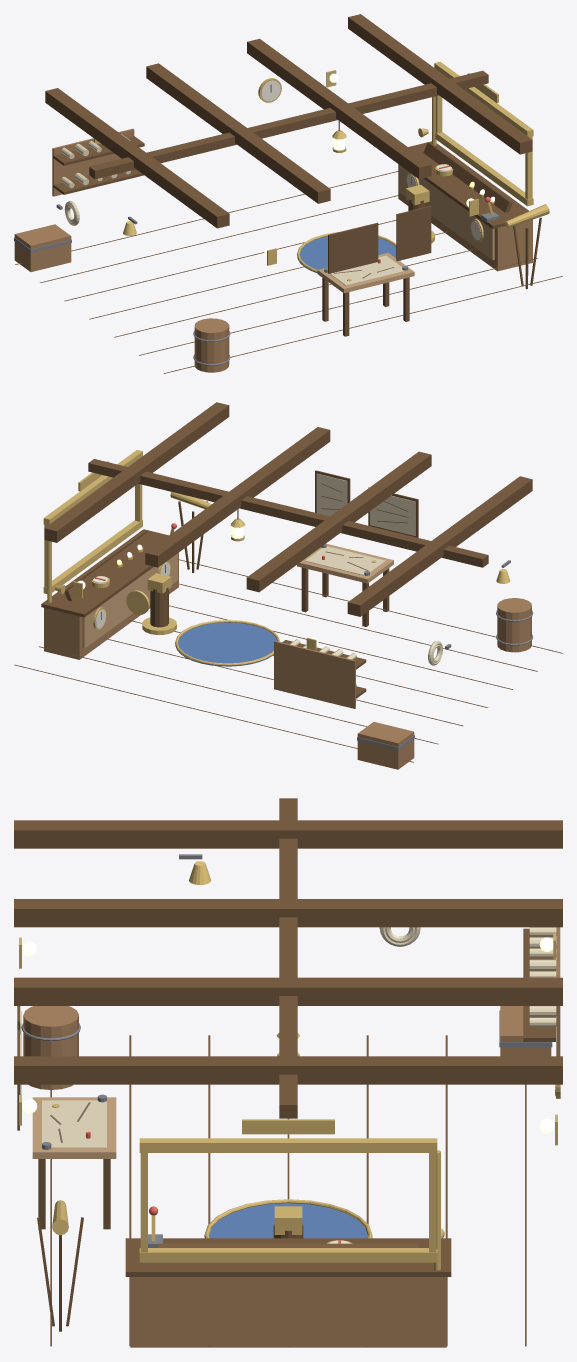
File: helm_room.glb
3 renders of one model, top to bottom at view 1: azimuth 30°, elevation 25°; view 2: azimuth 150°, elevation 25°; view 3: azimuth 270°, elevation 25°, orthographic. The views are drawn at different scales.
Parts seen in each view (by area): view 1: ceiling_beam_long, ceiling_beam_0, ceiling_beam_2, ceiling_beam_3, ceiling_beam_1, dash_top, col_dash_body, dash_panel, wall_chart_0_frame, col_chest, col_barrel, wall_chart_1_frame (+12 smaller); view 2: ceiling_beam_long, ceiling_beam_2, ceiling_beam_1, ceiling_beam_0, ceiling_beam_3, col_shelf_back, rug, dash_top, col_dash_body, col_chest, dash_panel, col_barrel (+13 smaller); view 3: col_dash_body, ceiling_beam_0, ceiling_beam_2, ceiling_beam_3, ceiling_beam_1, dash_top, ceiling_beam_long, window_frame_top, window_frame_bottom, rug, station_map_table, col_barrel (+11 smaller).
Part boxes in pixels (box(x1,y1,x2,y2)): ceiling_beam_long: box(89, 70, 488, 179); ceiling_beam_0: box(45, 88, 229, 228); ceiling_beam_2: box(247, 38, 431, 179); ceiling_beam_3: box(348, 14, 532, 154); ceiling_beam_1: box(146, 63, 330, 203); dash_top: box(408, 141, 528, 228); col_dash_body: box(398, 164, 532, 271); dash_panel: box(399, 165, 494, 260); wall_chart_0_frame: box(328, 222, 378, 273); col_chest: box(14, 224, 71, 271); col_barrel: box(194, 318, 229, 372); wall_chart_1_frame: box(396, 206, 431, 261); ceiling_beam_long: box(88, 459, 488, 567); ceiling_beam_2: box(145, 427, 330, 567); ceiling_beam_1: box(246, 451, 431, 592); ceiling_beam_0: box(347, 476, 532, 616); ceiling_beam_3: box(44, 402, 229, 542); col_shelf_back: box(274, 641, 355, 708); rug: box(175, 622, 276, 666); dash_top: box(41, 529, 168, 617); col_dash_body: box(44, 552, 178, 659); col_chest: box(357, 722, 414, 769); dash_panel: box(82, 553, 177, 648); col_barrel: box(497, 598, 531, 652); col_dash_body: box(130, 1277, 446, 1347); ceiling_beam_0: box(14, 820, 562, 848); ceiling_beam_2: box(14, 977, 562, 1005); ceiling_beam_3: box(14, 1056, 562, 1084); ceiling_beam_1: box(14, 899, 562, 927); dash_top: box(125, 1238, 451, 1276); ceiling_beam_long: box(279, 798, 297, 1118); window_frame_top: box(139, 1138, 437, 1152); window_frame_bottom: box(139, 1248, 437, 1262); rug: box(209, 1203, 367, 1238); station_map_table: box(42, 1100, 106, 1148); col_barrel: box(23, 1006, 78, 1089).
Bounding box in the file's own units: 7.9 × 3.02 × 5.9.
